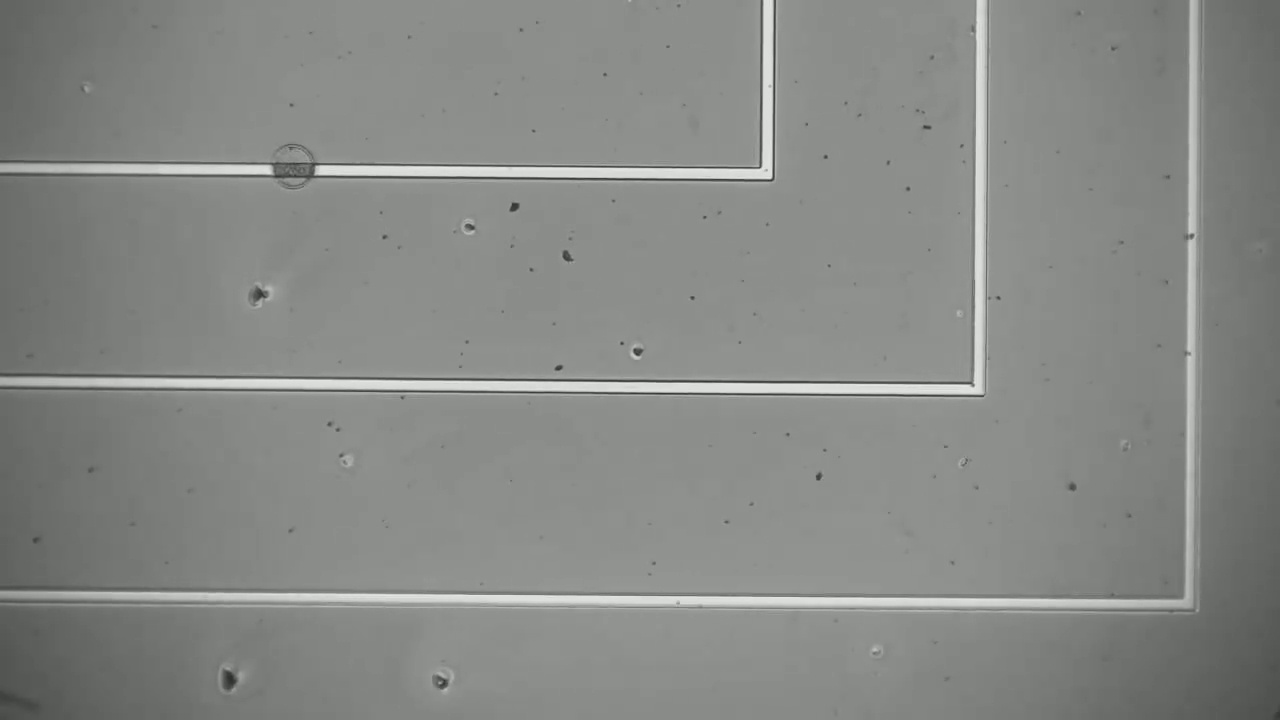gray_line: (256, 154, 333, 184)
stains_enbedded: (1181, 222, 1208, 253)
